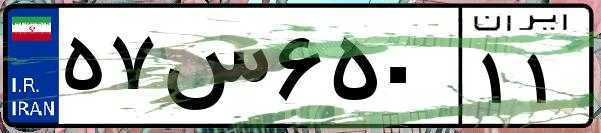0: (385, 28, 445, 110)
1: (475, 38, 525, 113), (525, 38, 570, 115)
5: (330, 28, 385, 110), (57, 26, 110, 100)
6: (270, 28, 330, 110)
7: (110, 28, 158, 98)
س: (158, 20, 270, 120)
